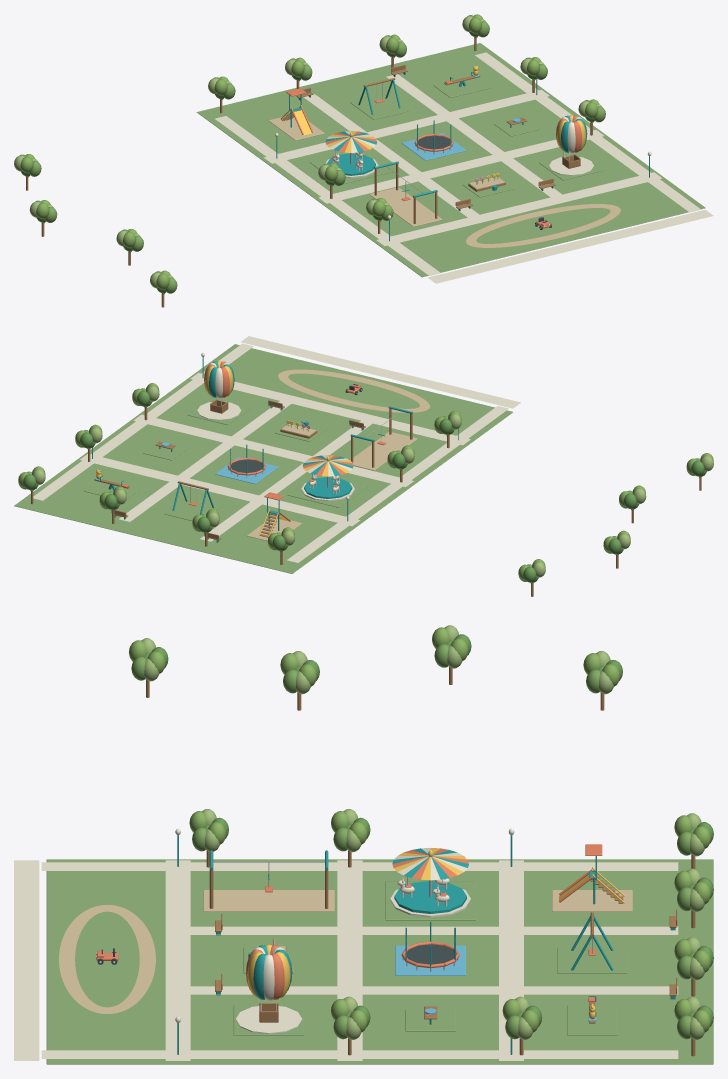
Rendered from playground.glb.
3 views of the same model, one above another, from view 1: azimuth 30°, elevation 25°; view 2: azimuth 150°, elevation 25°; view 3: azimuth 270°, elevation 25° (orthographic). The views are drawn at different scales.
Visible parts, largest first — view 1: GardenPaths, pedalcarStatic, ziplineStatic, BalloonBasketGeometry, trampolineStatic, slideStatic, swingStatic, CarouselCanopy, balloonStatic, CarouselDeckGeometry, seesawStatic, gardenStatic (+14 smaller); view 2: GardenPaths, pedalcarStatic, ziplineStatic, BalloonBasketGeometry, trampolineStatic, swingStatic, slideStatic, CarouselDeckGeometry, CarouselCanopy, balloonStatic, carouselStatic, gardenStatic (+14 smaller); view 3: GardenPaths, pedalcarStatic, ziplineStatic, BalloonBasketGeometry, slideStatic, trampolineStatic, swingStatic, CarouselDeckGeometry, CarouselCanopy, balloonStatic, carouselStatic, seesawStatic (+13 smaller).
Boxes of the visible parts, x1,y1,x2,y2 form: GardenPaths: [196, 43, 713, 283]; pedalcarStatic: [466, 204, 620, 247]; ziplineStatic: [369, 161, 442, 226]; BalloonBasketGeometry: [556, 115, 587, 168]; trampolineStatic: [401, 120, 466, 160]; slideStatic: [268, 88, 324, 140]; swingStatic: [350, 77, 408, 119]; CarouselCanopy: [325, 131, 376, 152]; balloonStatic: [539, 152, 603, 180]; CarouselDeckGeometry: [327, 133, 375, 175]; seesawStatic: [433, 76, 491, 97]; gardenStatic: [463, 176, 514, 197]; GardenPaths: [14, 336, 520, 573]; pedalcarStatic: [278, 369, 429, 412]; ziplineStatic: [350, 406, 417, 470]; BalloonBasketGeometry: [204, 361, 234, 413]; trampolineStatic: [215, 444, 278, 484]; swingStatic: [164, 481, 221, 520]; slideStatic: [247, 492, 302, 541]; CarouselDeckGeometry: [304, 463, 352, 498]; CarouselCanopy: [302, 455, 353, 476]; balloonStatic: [187, 398, 250, 424]; carouselStatic: [287, 475, 368, 507]; gardenStatic: [275, 420, 325, 441]; GardenPaths: [14, 828, 713, 1064]; pedalcarStatic: [59, 905, 155, 1013]; ziplineStatic: [203, 850, 334, 911]; BalloonBasketGeometry: [246, 944, 292, 1022]; slideStatic: [552, 844, 632, 911]; trampolineStatic: [395, 921, 465, 975]; swingStatic: [557, 912, 627, 973]; CarouselDeckGeometry: [394, 851, 466, 913]; CarouselCanopy: [392, 847, 468, 880]; balloonStatic: [233, 1005, 304, 1035]; carouselStatic: [385, 881, 475, 920]; seesawStatic: [567, 1005, 617, 1035].
Bounding box in the file's own units: 91.26 × 7.92 × 69.29.
